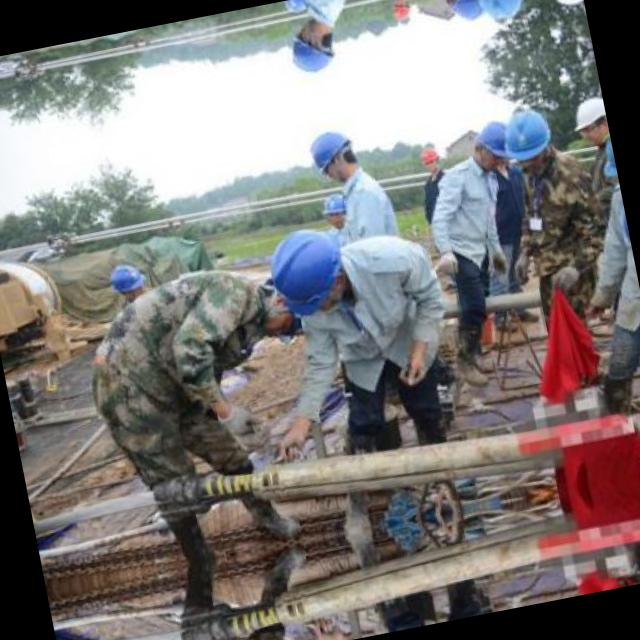helmet: (256, 218, 356, 324), (488, 99, 554, 173), (301, 122, 364, 188), (280, 16, 342, 82), (470, 115, 518, 174), (567, 90, 609, 148), (461, 0, 526, 32), (104, 260, 148, 305), (317, 190, 357, 236), (441, 0, 489, 27), (416, 138, 444, 176), (387, 0, 415, 29), (541, 0, 583, 15), (278, 0, 314, 16)
